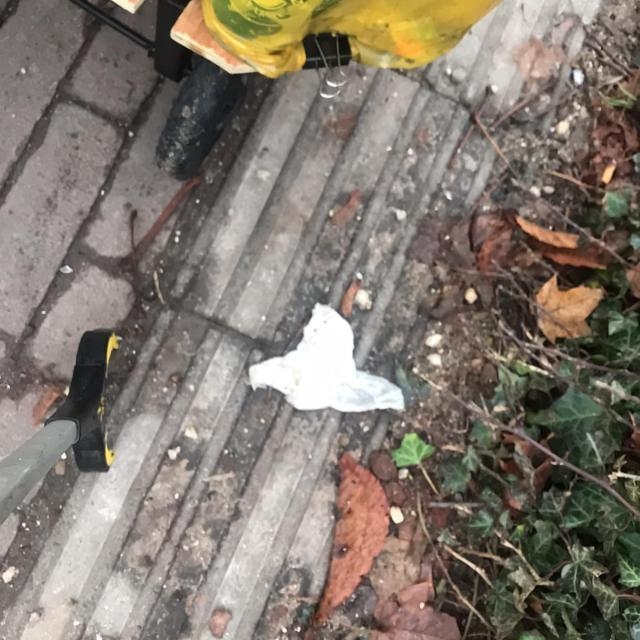Paper: (247, 301, 407, 414)
